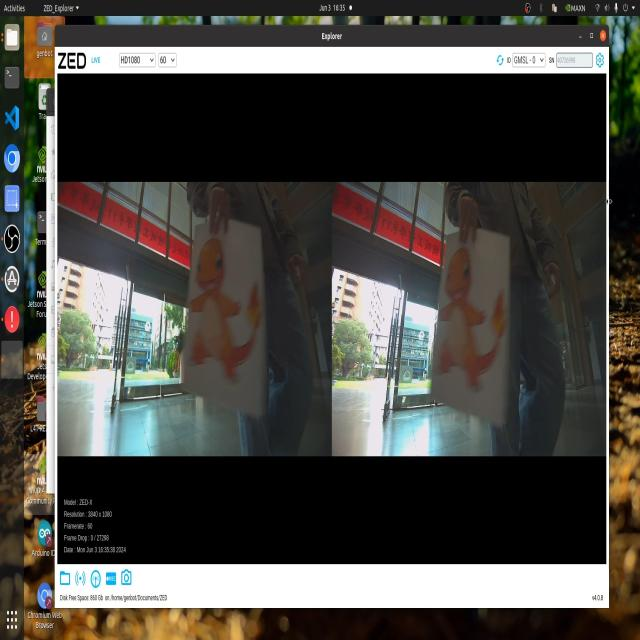red: (442, 248, 512, 383), (197, 281, 265, 382)
